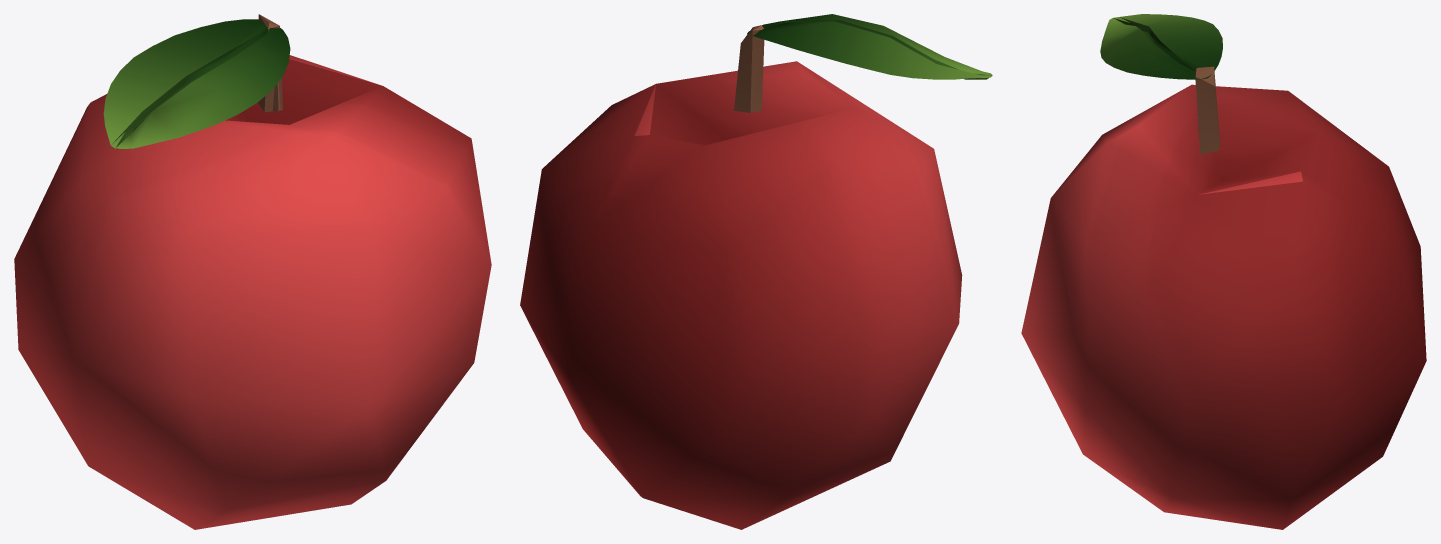
Rendered from apple.glb.
3 renders of one model, left to right at view 1: azimuth 30°, elevation 25°; view 2: azimuth 150°, elevation 25°; view 3: azimuth 270°, elevation 25°, orthographic. The views are drawn at different scales.
Parts seen in each view (by area): view 1: apple; view 2: apple; view 3: apple.
Part boxes in pixels (box(x1,y1,x2,y2)): apple: box(14, 14, 491, 529); apple: box(520, 14, 992, 529); apple: box(1021, 14, 1426, 529).
Bounding box in the file's own units: 0.2656 × 0.3025 × 0.2583.
Materials: 1 (1 with a texture image).
